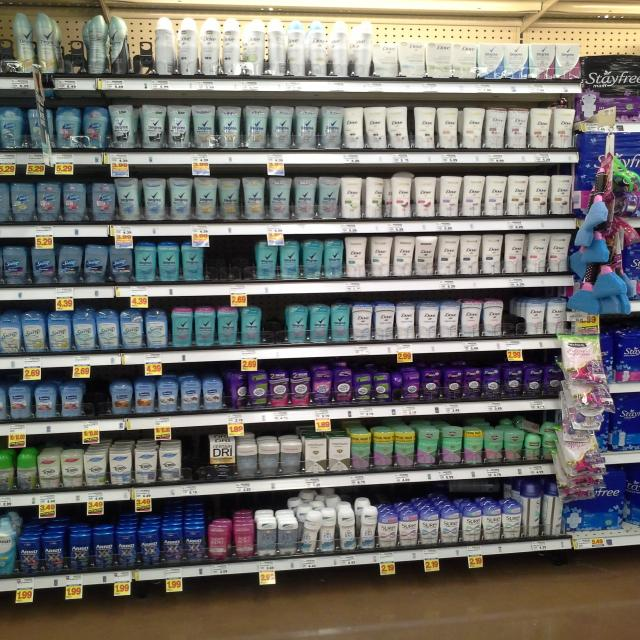void: (181, 430, 206, 497), (232, 233, 255, 297), (205, 237, 229, 295)
